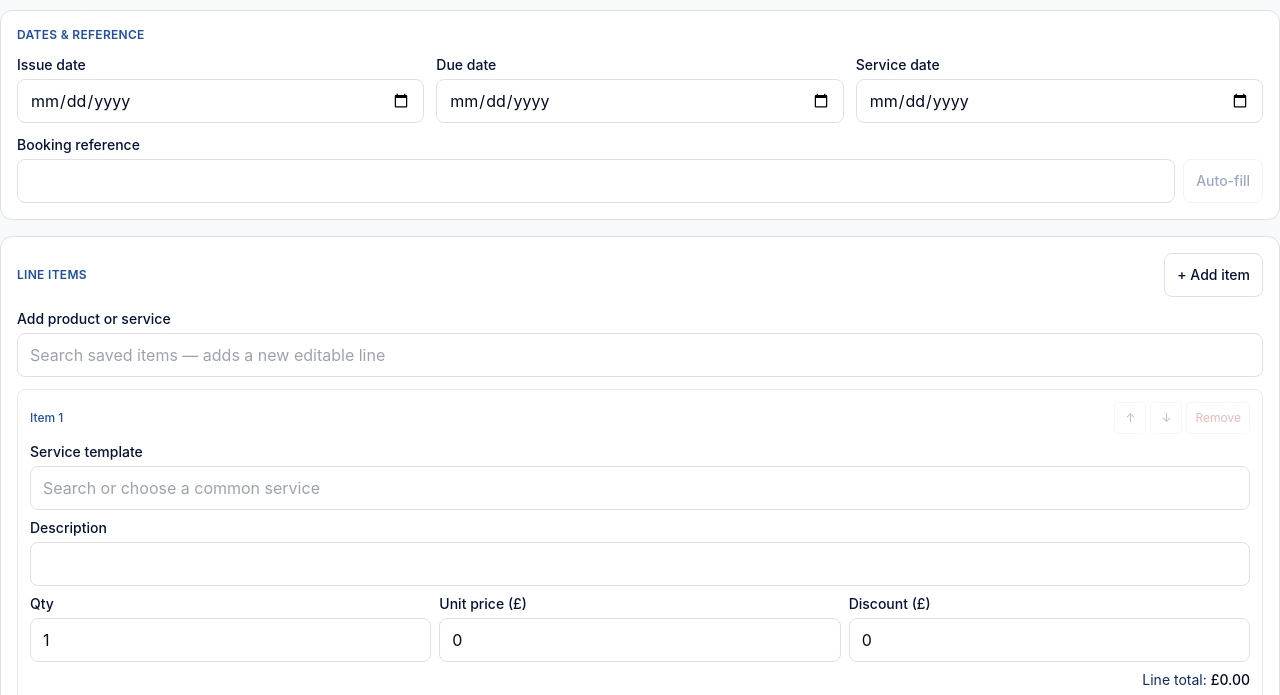
Test: InvoiceItemsForm — catalogue selector › selecting a catalogue item appends a new line prefilled with name, quantity 1 and the exact pence price
The image size is (1280, 695).
(page scrolled)
Type "Bedroom" into the dropdown with test id "catalogue-combobox".
click(640, 355); type("Bedroom")  # box [17,333,1263,377]
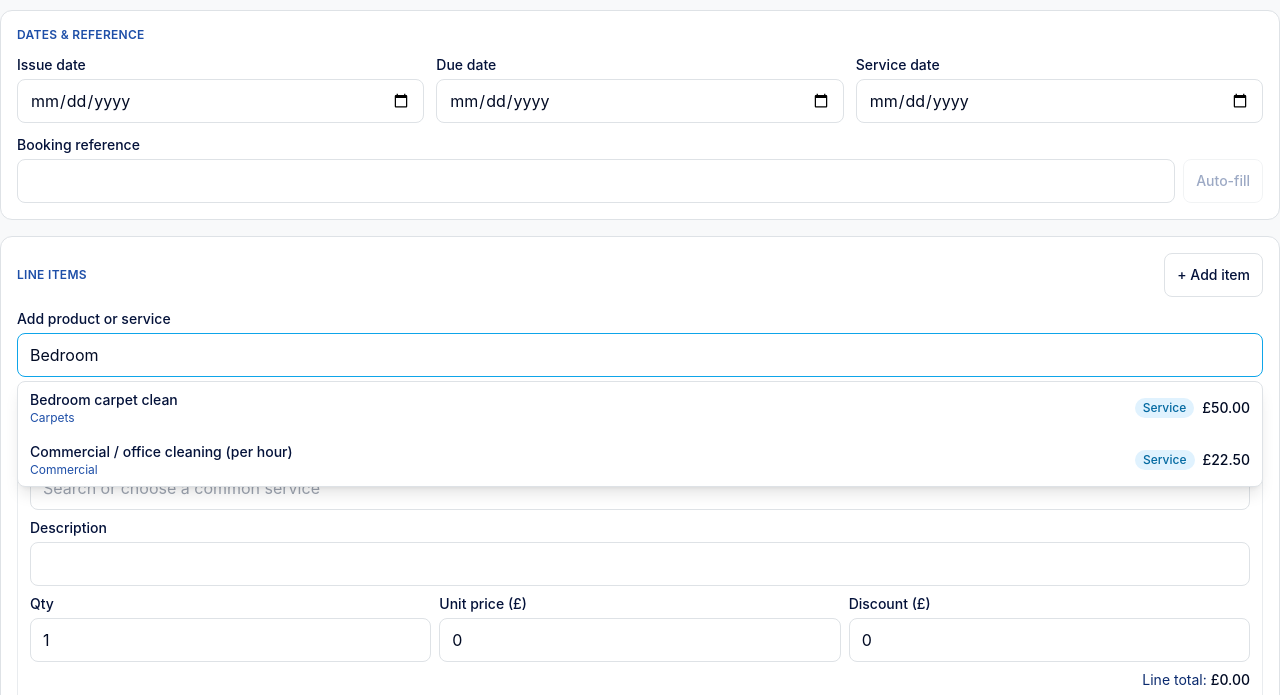
Click the option "Bedroom carpet clean".
click(104, 400)  # box [18,382,1262,434]
(page scrolled)
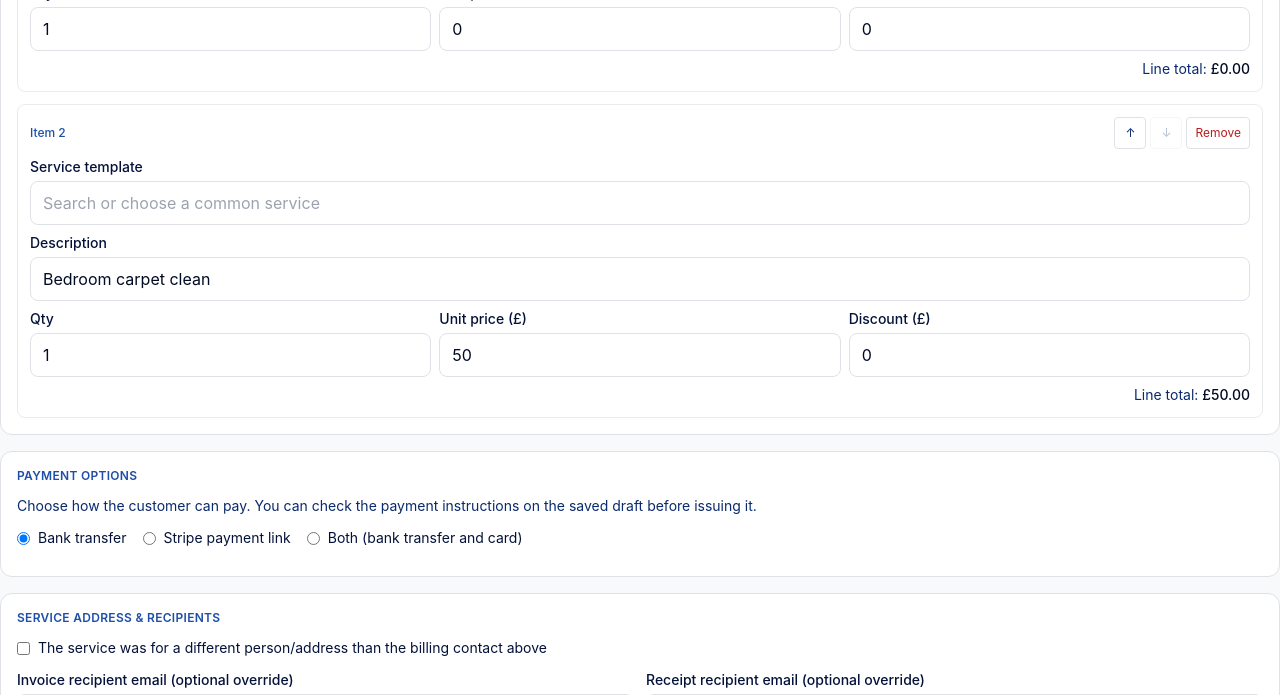
Expected: the number of fields labelled "Description" is 2
Expected: the field labelled "Description" holds "Bedroom carpet clean", [30,257,1250,301]
Expected: the 2nd field labelled "Qty" holds "1", [30,333,431,377]
